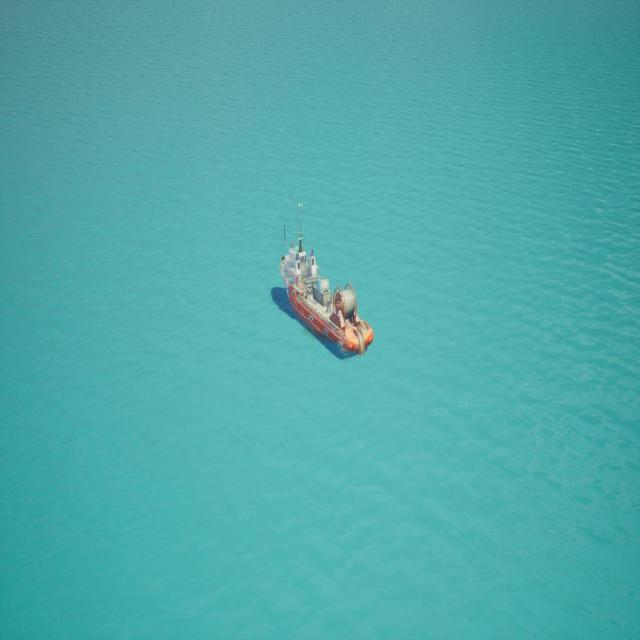tug boat: (255, 191, 389, 370)
